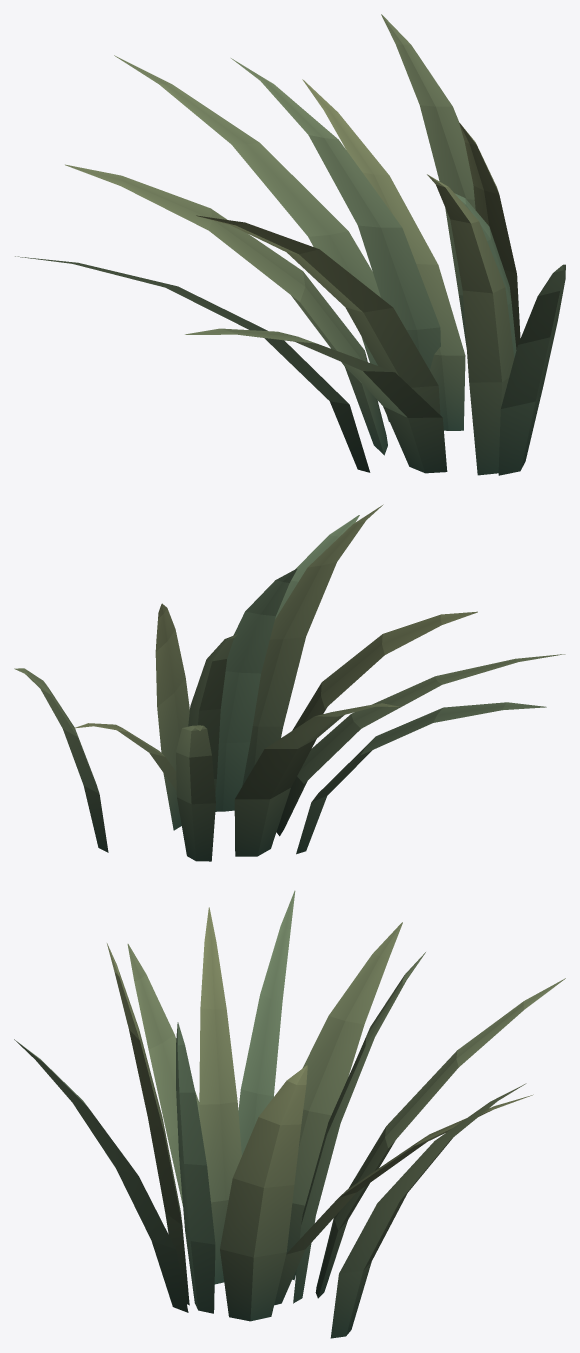
Rendered from meadow-grass-sweep.glb.
3 views of the same model, one above another, from view 1: azimuth 30°, elevation 25°; view 2: azimuth 150°, elevation 25°; view 3: azimuth 270°, elevation 25° (orthographic). The views are drawn at different scales.
Parts seen in each view (by area): view 1: meadow-grass-sweep; view 2: meadow-grass-sweep; view 3: meadow-grass-sweep.
Part boxes in pixels (x1=…): meadow-grass-sweep: x1=15, y1=14, x2=565, y2=475; meadow-grass-sweep: x1=14, y1=504, x2=565, y2=861; meadow-grass-sweep: x1=14, y1=890, x2=565, y2=1338.
Size of the model in its own units: 0.5827 by 0.3796 by 0.6148.
